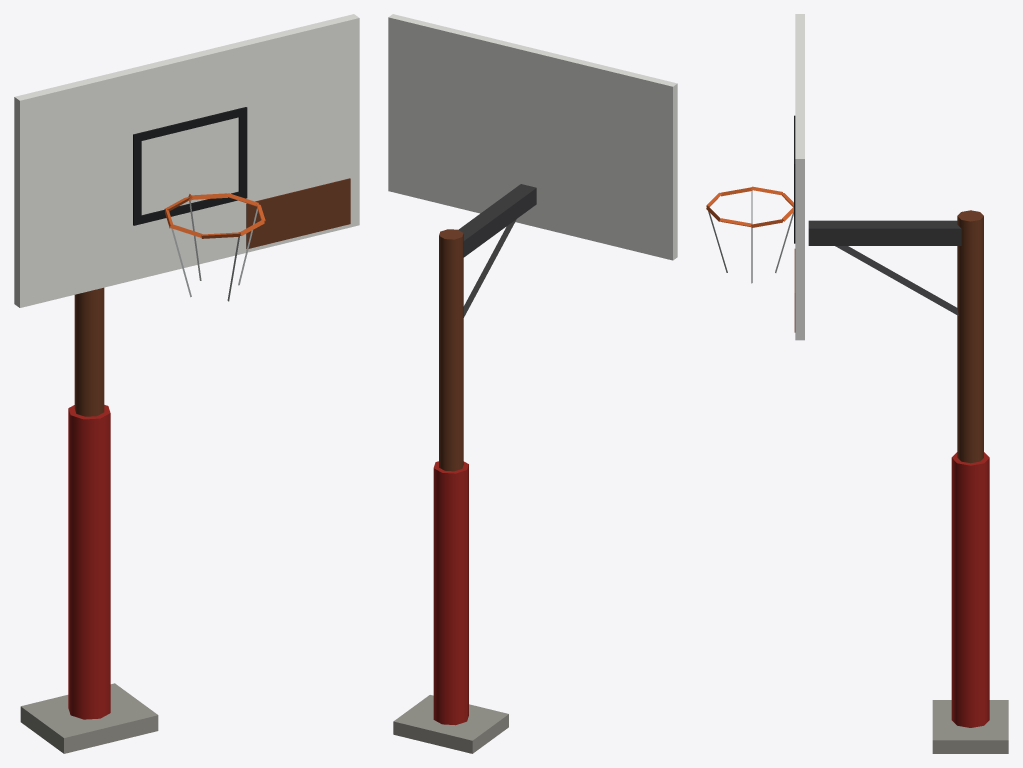
Rendered from basketball_hoop.glb.
The picture shows the model from 3 angles, left to right: view 1: azimuth 30°, elevation 25°; view 2: azimuth 150°, elevation 25°; view 3: azimuth 270°, elevation 25°; orthographic projection. The views are drawn at different scales.
Parts seen in each view (by area): view 1: basketball_hoop; view 2: basketball_hoop; view 3: basketball_hoop.
Part boxes in pixels (box(x1,y1,x2,y2)): basketball_hoop: box(14, 14, 359, 753); basketball_hoop: box(388, 14, 677, 753); basketball_hoop: box(706, 14, 1008, 753).
Size of the model in its own units: 1.8 by 3.75 by 1.59.
Materials: 1 (1 with a texture image).
